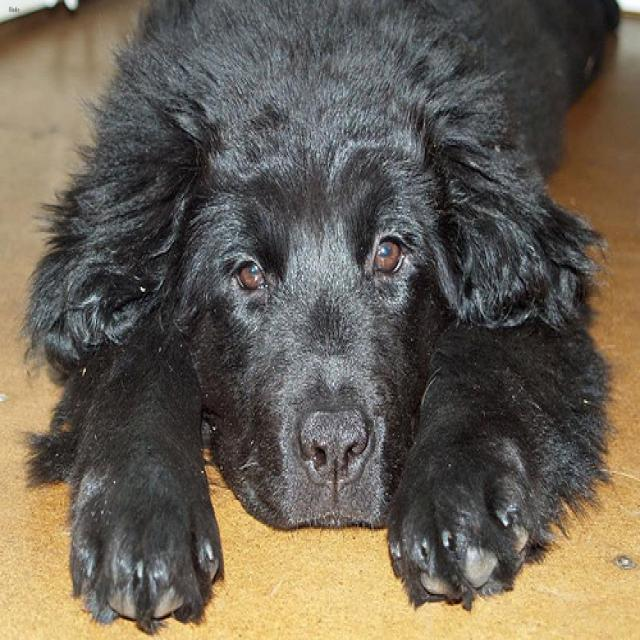dog-newfoundland: (19, 2, 632, 637)
